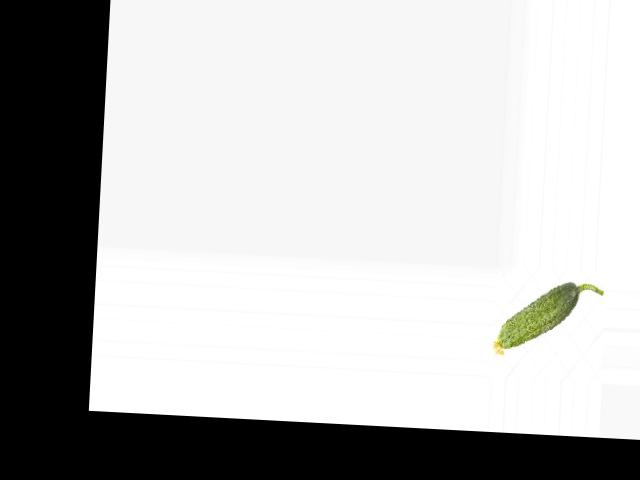cucumber: (492, 277, 602, 361)
